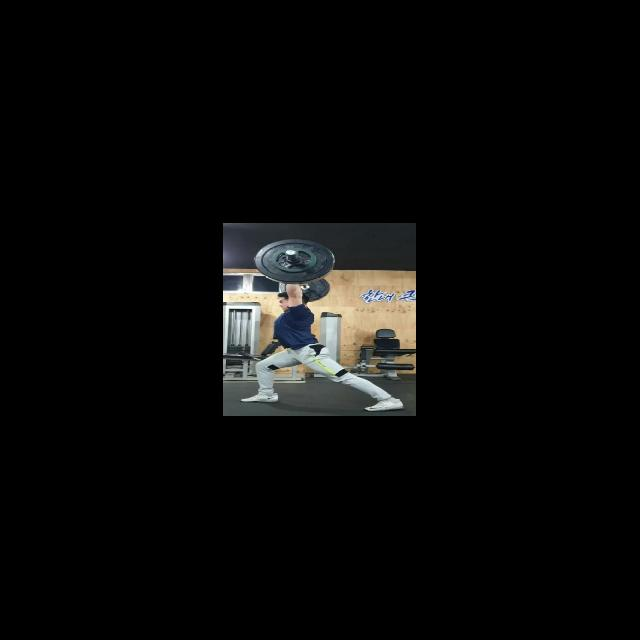barbell: (252, 237, 336, 285)
